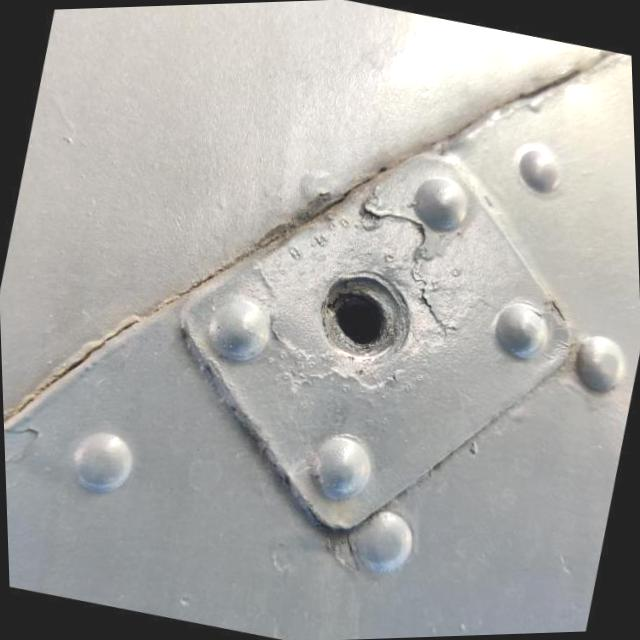Missing Fastener: (312, 270, 418, 362)
